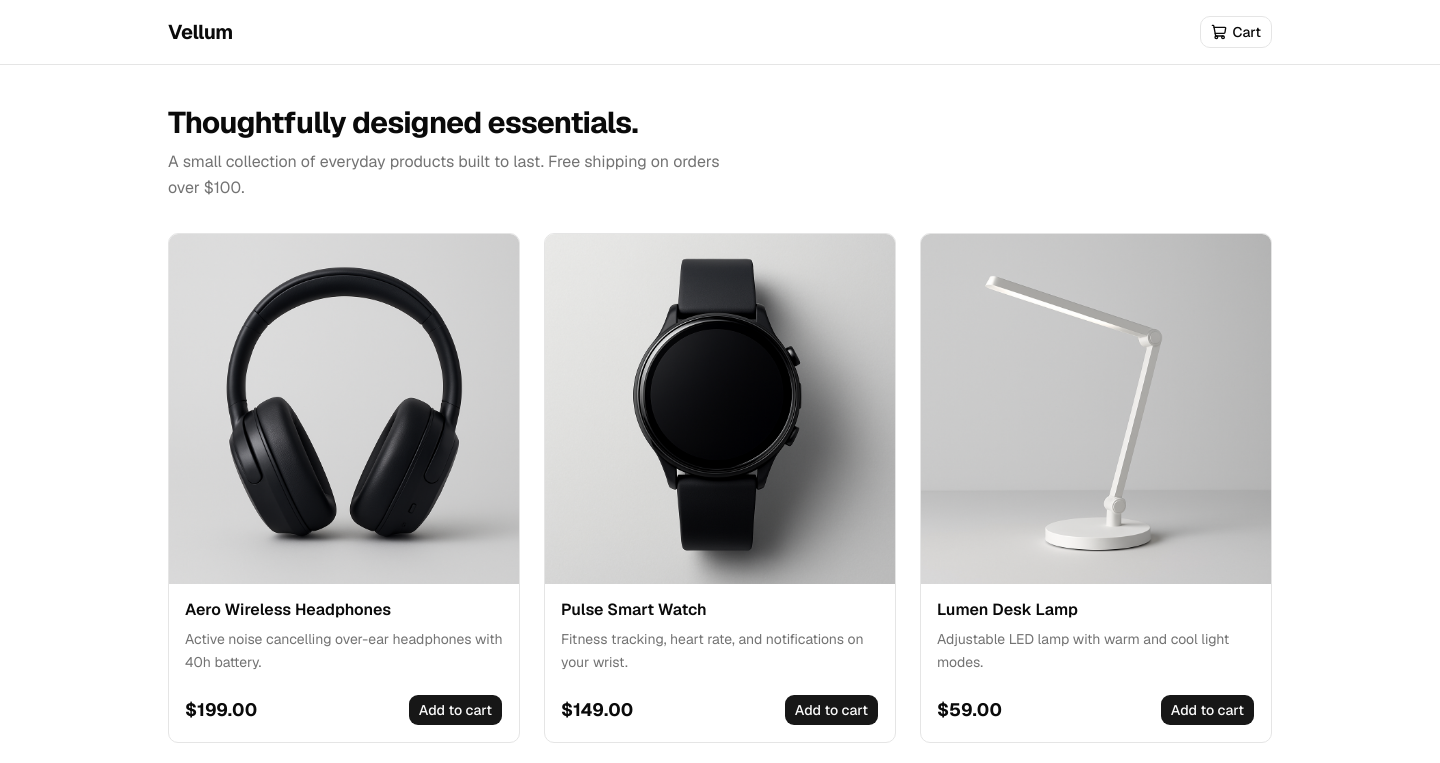
Test: Store cart integration › increases quantity and total when the same product is added twice
Click the button with aria-label "Add Aero Wireless Headphones to cart". click: {"x": 455, "y": 710}
box: x1=408 y1=694 x2=503 y2=726
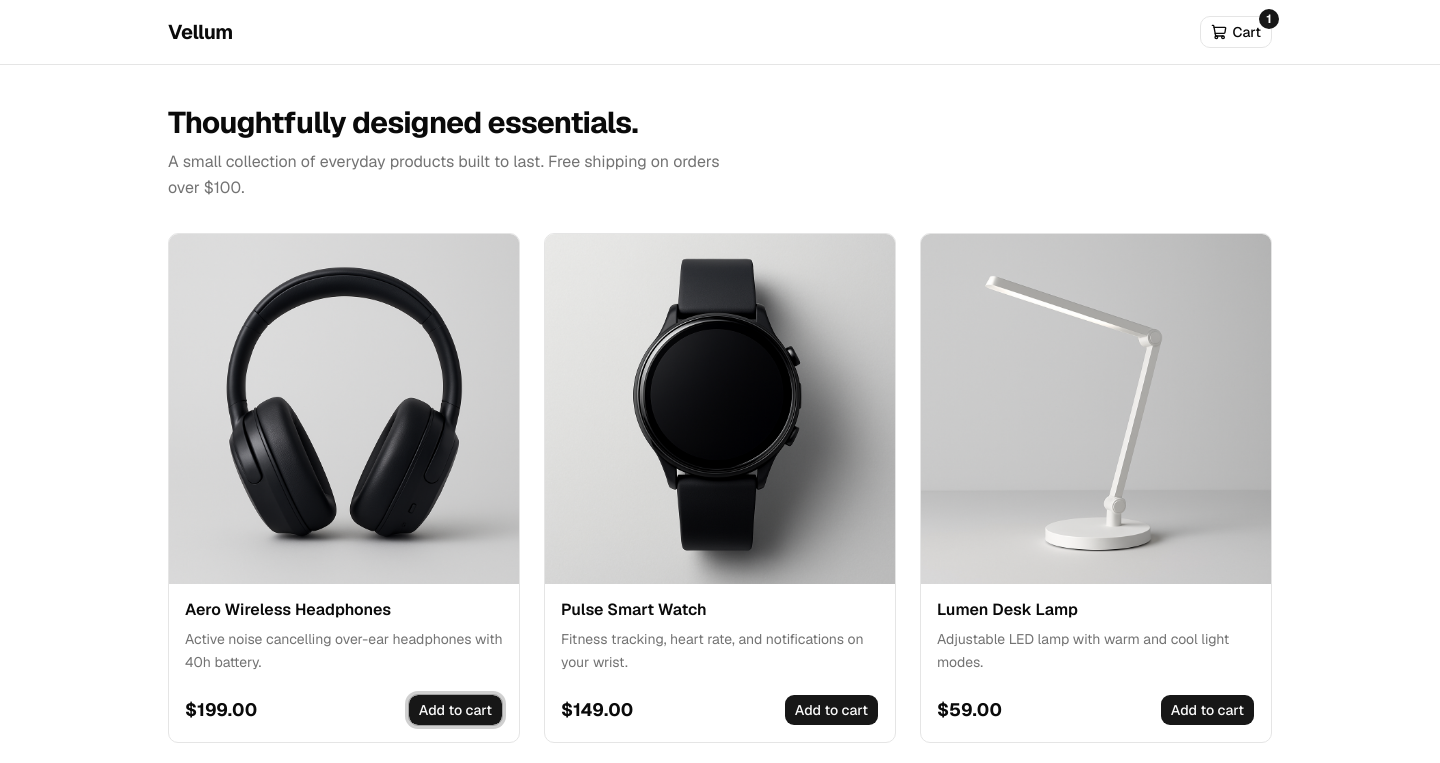
Click the button with aria-label "Add Aero Wireless Headphones to cart". click: {"x": 455, "y": 710}
box: x1=408 y1=694 x2=503 y2=726
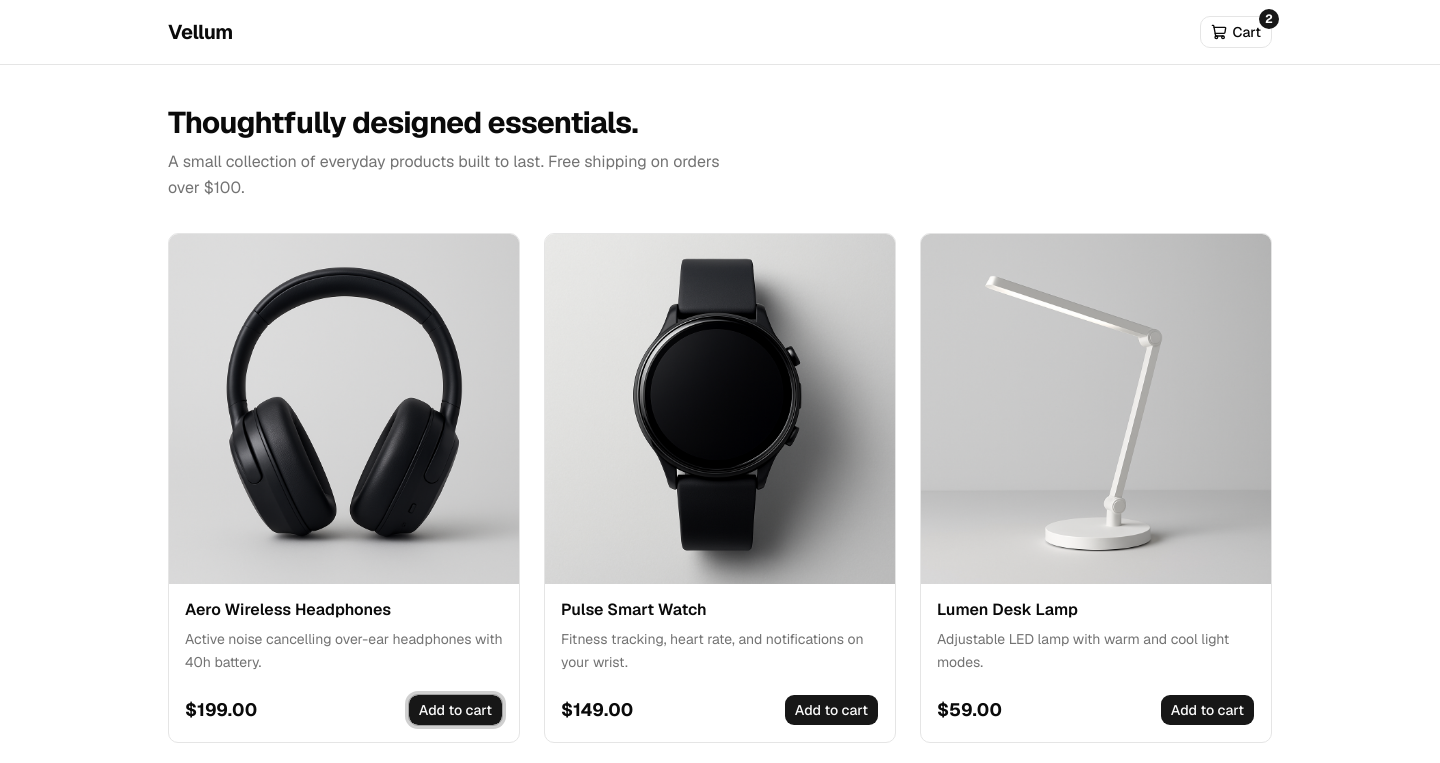
Expected: the text with test id "cart-count" reads "2", x1=1265 y1=11 x2=1273 y2=27
Click the button with aria-label "Open cart". click: {"x": 1236, "y": 32}
box: x1=1200 y1=16 x2=1272 y2=48
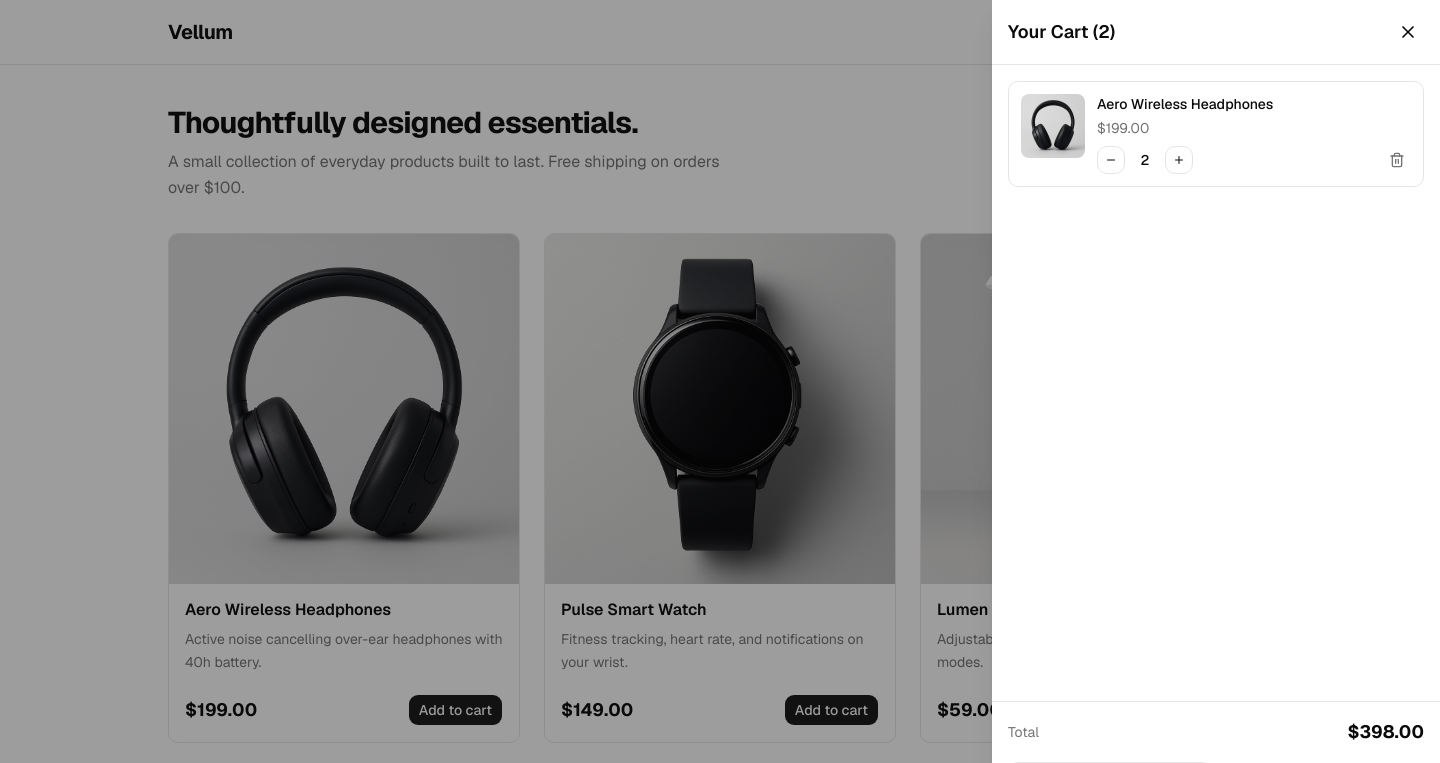
Expected: the text with test id "cart-total" reads "$398.00", x1=1348 y1=720 x2=1424 y2=743
